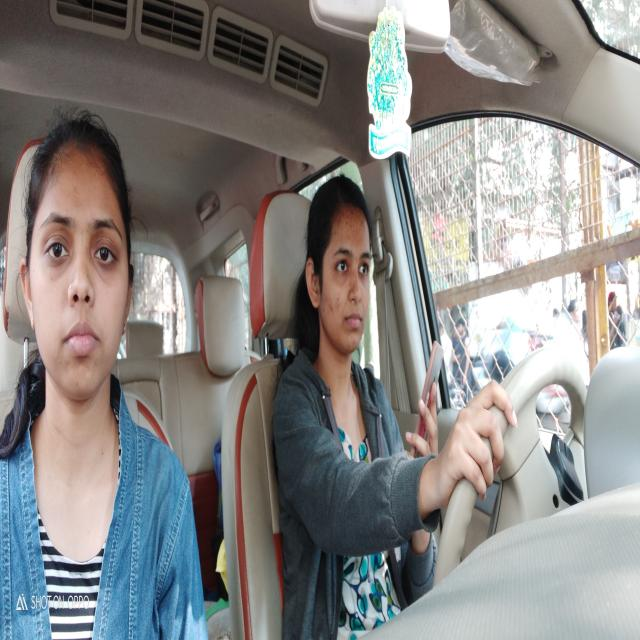mobile: (413, 309, 451, 453)
person: (13, 96, 148, 436), (299, 147, 379, 367)
